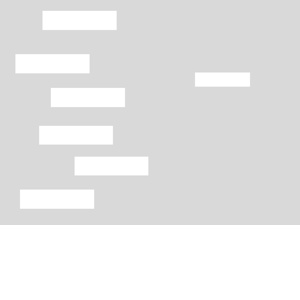square: (41, 8, 119, 32), (73, 154, 150, 178), (38, 123, 114, 147), (13, 52, 92, 75), (49, 85, 127, 108), (18, 187, 95, 210), (193, 70, 252, 88)
